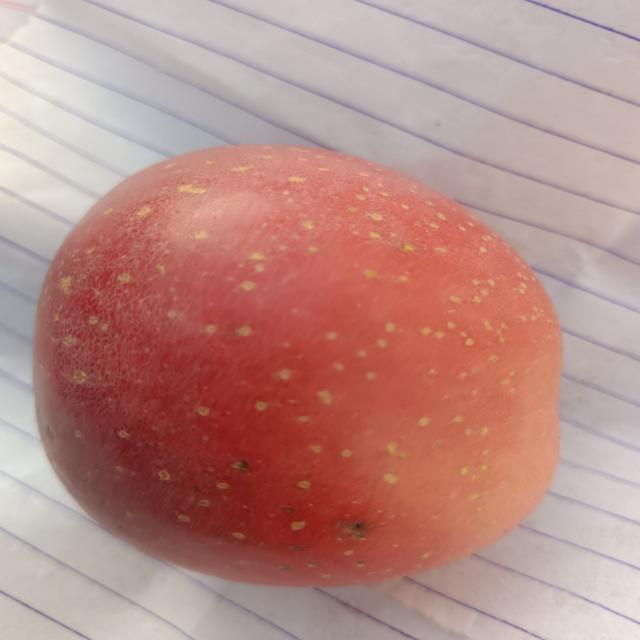Fresh Apple: (31, 146, 564, 588)
